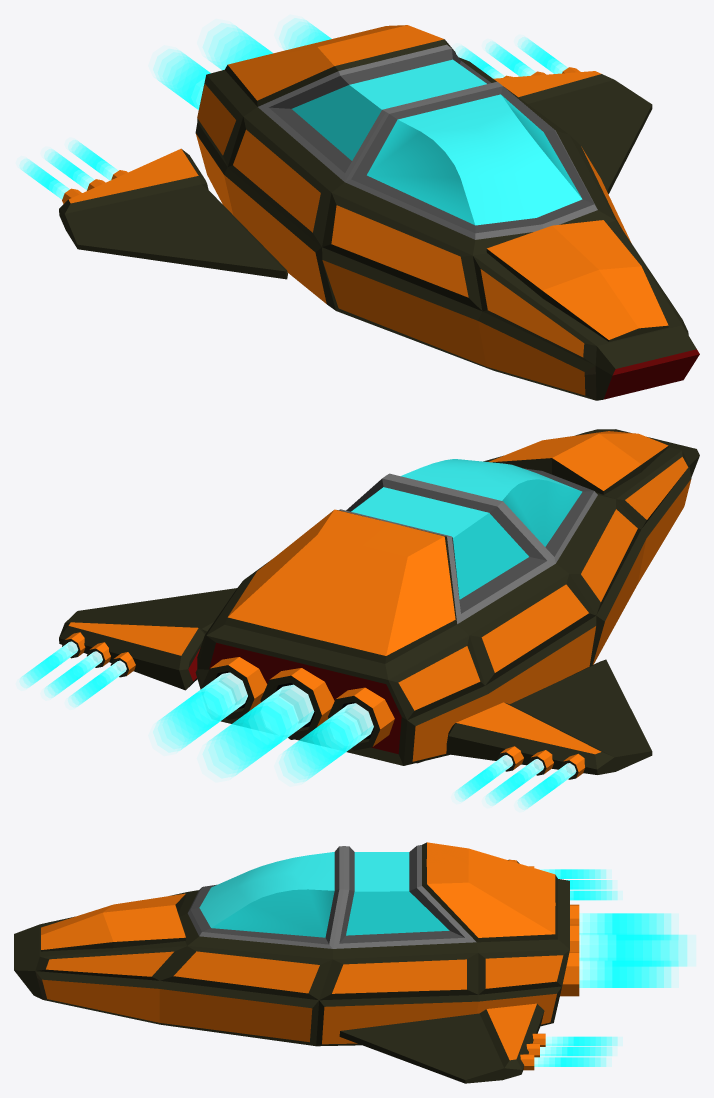
The model's file is low-poly_spaceship (1).glb.
3 views of the same model, one above another, from view 1: azimuth 30°, elevation 25°; view 2: azimuth 150°, elevation 25°; view 3: azimuth 270°, elevation 25° (orthographic). The views are drawn at different scales.
Visible parts, largest first — view 1: Cube.001; view 2: Cube.001; view 3: Cube.001.
Boxes of the visible parts, x1,y1,x2,y2 form: Cube.001: (20, 18, 699, 400); Cube.001: (20, 429, 699, 809); Cube.001: (14, 842, 687, 1083).
Bounding box in the file's own units: 522 × 164 × 696.
Materials: 1 (1 with a texture image).
